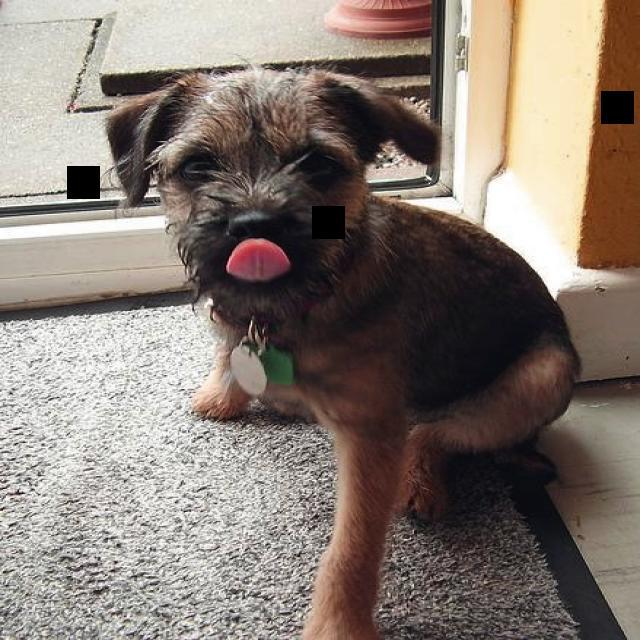adult_dog: (103, 63, 585, 640)
